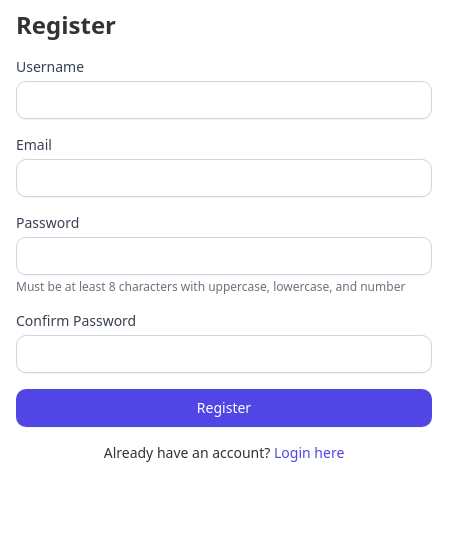
Test case: RegistrationPage › shows error on failed registration
The image size is (449, 535).
In the field labelled "Username": (224, 100) [16,81,432,119], type "testuser"
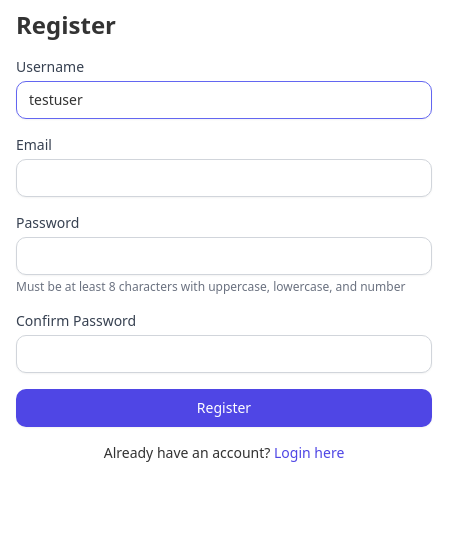
In the field labelled "Email": (224, 178) [16,159,432,197], type "test@example.com"
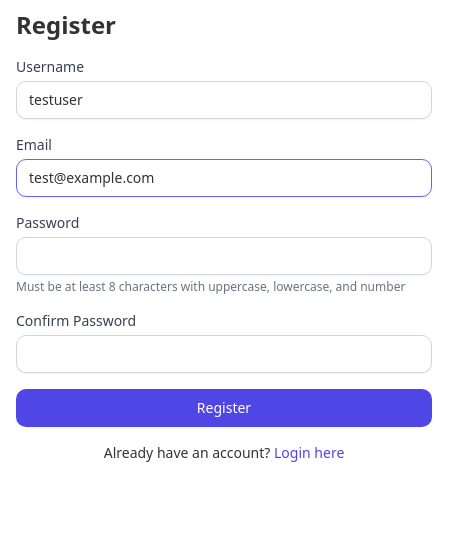
In the password field labelled "Password": (224, 256) [16,237,432,275], type "Password123"
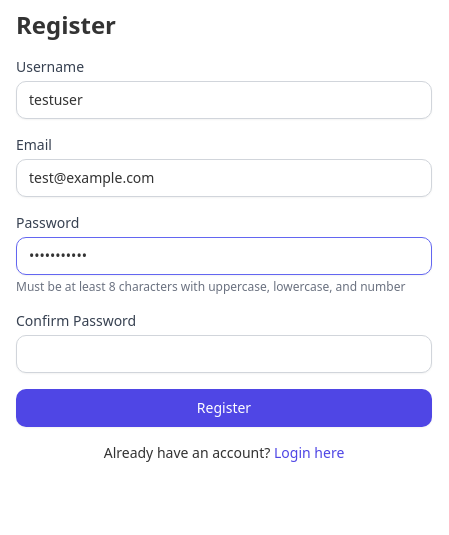
In the password field labelled "Confirm Password": (224, 354) [16,335,432,373], type "Password123"
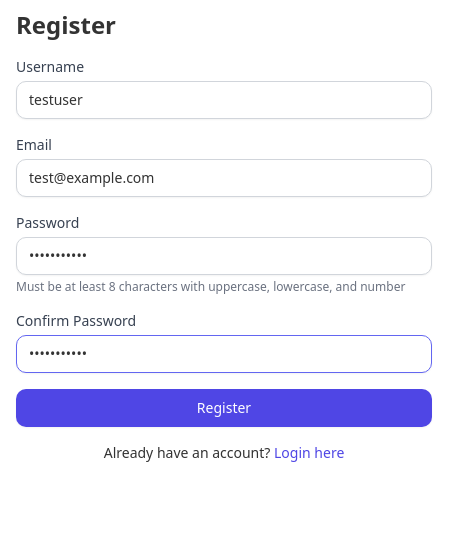
Click the button "Register": (224, 408) [16,389,432,427]
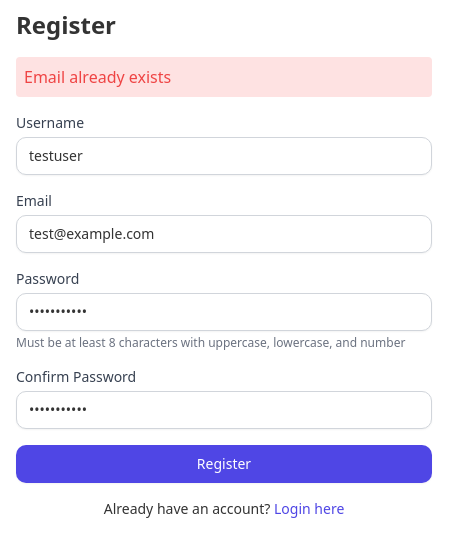
Check: the text "Email already exists" is shown, box [16,57,432,97]
